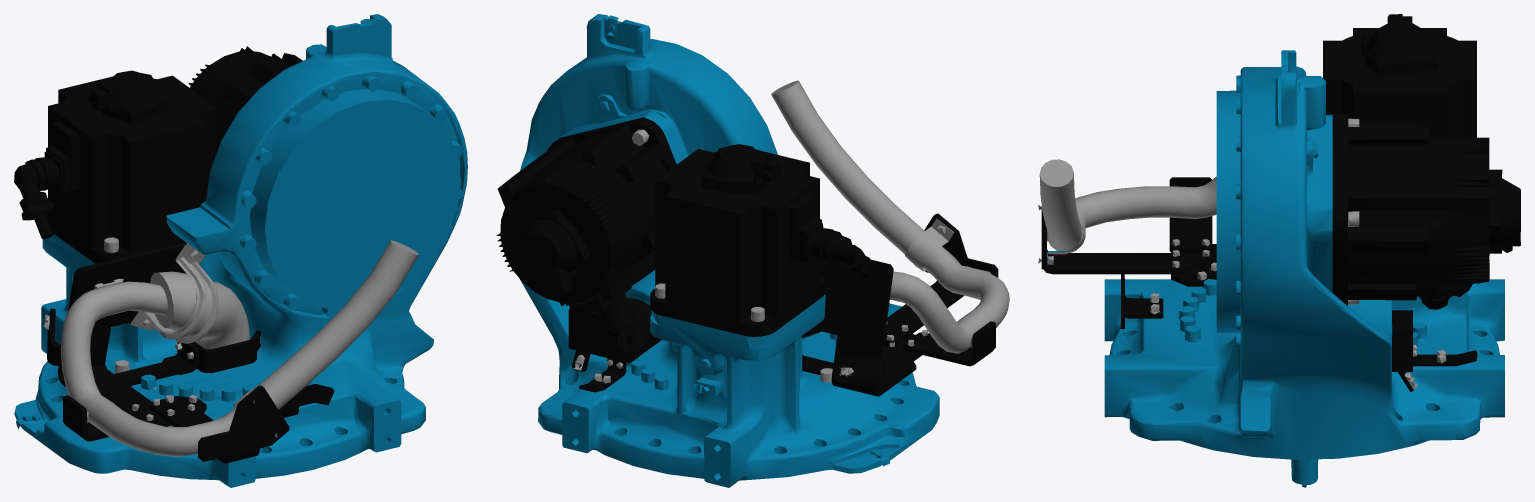
3 views of the same model, side by side, from view 1: azimuth 30°, elevation 25°; view 2: azimuth 150°, elevation 25°; view 3: azimuth 270°, elevation 25° (orthographic). The views are drawn at different scales.
Visible parts, largest first — view 1: pl80_lk1; view 2: pl80_lk1; view 3: pl80_lk1.
Part boxes in pixels (x1,y1,x2,y2): pl80_lk1: (14, 14, 467, 487); pl80_lk1: (496, 14, 1009, 487); pl80_lk1: (1038, 14, 1520, 487).
Size of the model in its own units: 0.606 by 0.5644 by 0.5464.
